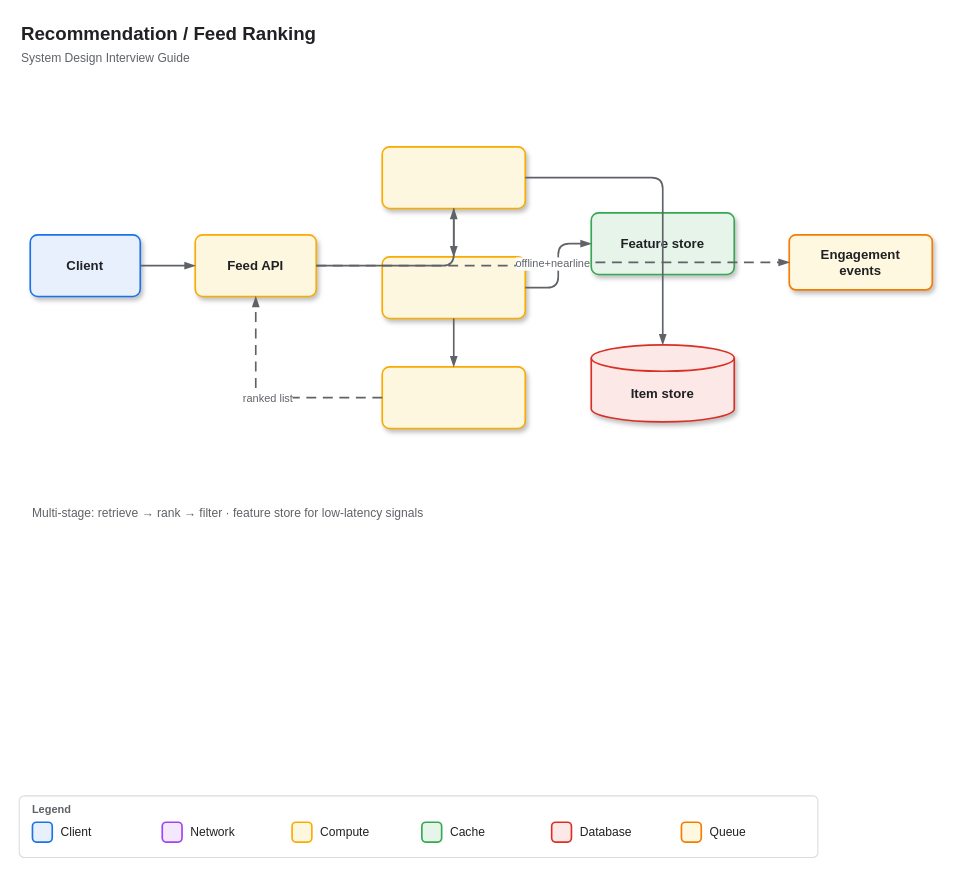
Image size: 959x877. Some labels were removed from this diagram. Here are the shapes that lost their labels. From the top down, the centre of each, then its label:
At point (454, 178): "Candidate generation".
At point (454, 288): "Ranker (ML features)".
At point (454, 398): "Filters (seen, safety)".
